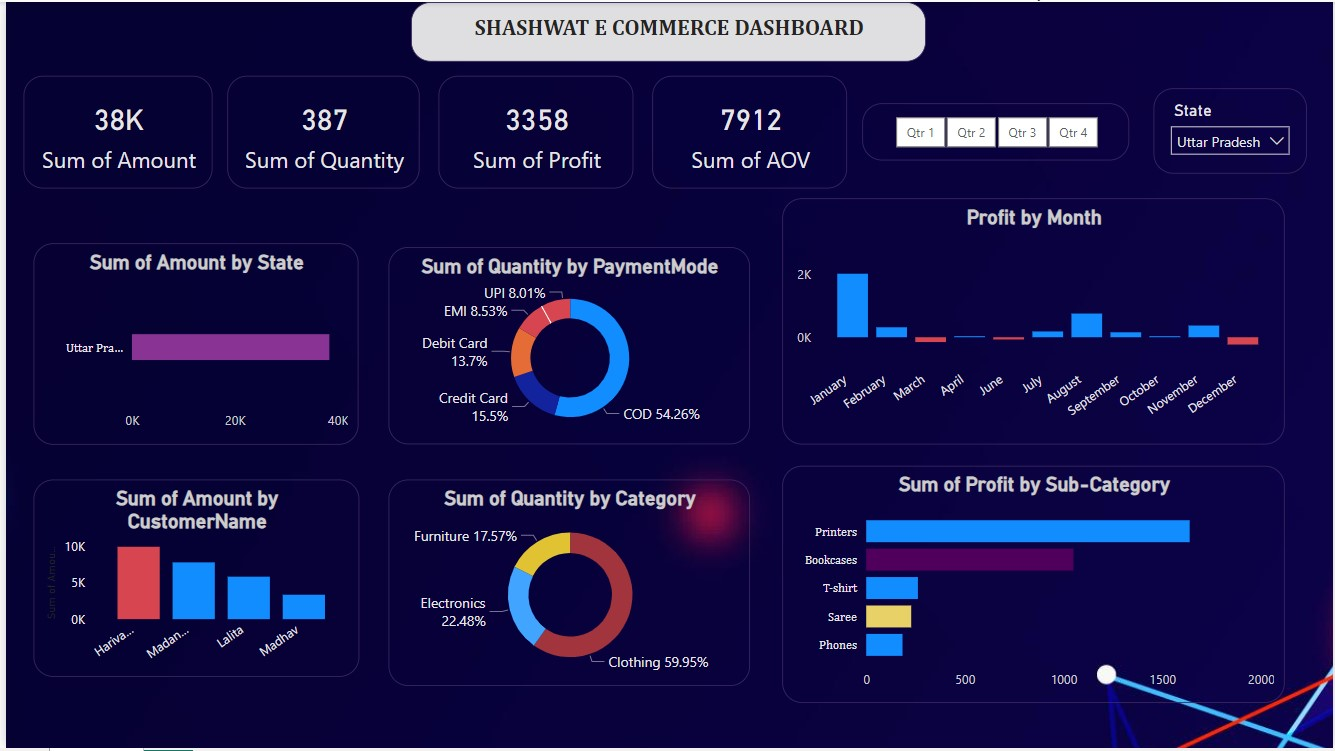

The page's visual inventory and layout, read from the dashboard file:
{"tool":"powerbi","page":{"name":"Page 1","canvas":[1280,720],"ordinal":0},"visuals":[{"type":"textbox","box":[391.1,0,496.7,57.6],"z":0},{"type":"columnChart","title":"Profit by Month","fields":{"Y":["Details.Profit"],"Category":["Orders.Order Date.Variation.Date Hierarchy.Month"]},"box":[748.9,189.3,484.8,237.6],"z":1000},{"type":"barChart","fields":{"Category":["Details.Sub-Category"],"Y":["Details.Profit"]},"box":[748.9,447.4,484.8,229.1],"z":2000},{"type":"donutChart","fields":{"Category":["Details.Category"],"Y":["Details.Quantity"]},"box":[369,460.7,348.5,199],"z":3000},{"type":"donutChart","fields":{"Y":["Details.Quantity"],"Category":["Details.PaymentMode"]},"box":[369,236.4,348.5,190.6],"z":4000},{"type":"card","fields":{"Values":["Details.Amount"]},"box":[16.9,71.2,182.1,108.5],"z":5000},{"type":"card","fields":{"Values":["Details.Quantity"]},"box":[213.5,71.2,185.7,108.5],"z":6000},{"type":"card","fields":{"Values":["Details.Profit"]},"box":[417.3,71.2,188.1,108.5],"z":7000},{"type":"card","fields":{"Values":["Details.AOV"]},"box":[623.5,71.2,188.1,108.5],"z":8000},{"type":"barChart","fields":{"Y":["Details.Amount"],"Category":["Orders.State"]},"box":[26.5,232.8,313.6,194.2],"z":9000},{"type":"columnChart","fields":{"Y":["Details.Amount"],"Category":["Orders.CustomerName"]},"box":[26.1,461.1,314.2,190.7],"z":10000},{"type":"slicer","fields":{"Values":["Orders.Order Date.Variation.Date Hierarchy.Quarter"]},"box":[826.1,97.4,258,54.9],"z":11000},{"type":"slicer","fields":{"Values":["Orders.State"]},"box":[1107.4,83.7,148.2,82.3],"z":12000}]}

Visuals, with their boxes in screenshot pixels (x1, y1, x2, y2), scaled from the page's 1280x720 canvas onto the 1335x751 screenshot:
textbox: BBox(408, 0, 926, 60)
"Profit by Month" columnChart: BBox(781, 197, 1287, 445)
barChart - Details.Sub-Category x Details.Profit: BBox(781, 467, 1287, 706)
donutChart - Details.Category x Details.Quantity: BBox(385, 481, 748, 688)
donutChart - Details.Quantity x Details.PaymentMode: BBox(385, 247, 748, 445)
card - Details.Amount: BBox(18, 74, 208, 187)
card - Details.Quantity: BBox(223, 74, 416, 187)
card - Details.Profit: BBox(435, 74, 631, 187)
card - Details.AOV: BBox(650, 74, 846, 187)
barChart - Details.Amount x Orders.State: BBox(28, 243, 355, 445)
columnChart - Details.Amount x Orders.CustomerName: BBox(27, 481, 355, 680)
slicer - Orders.Order Date.Variation.Date Hierarchy.Quarter: BBox(862, 102, 1131, 159)
slicer - Orders.State: BBox(1155, 87, 1310, 173)
